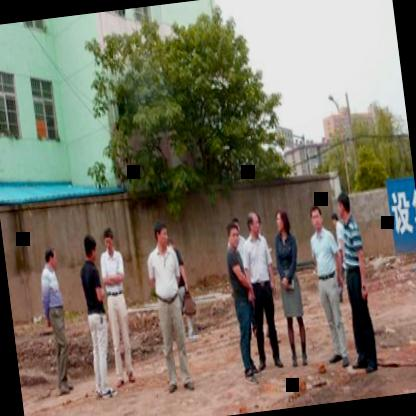head: (148, 216, 172, 250), (80, 230, 100, 265), (271, 204, 292, 237), (332, 188, 352, 221), (242, 208, 260, 240), (40, 245, 58, 274), (102, 226, 118, 258), (223, 219, 240, 249), (308, 202, 324, 232), (327, 208, 341, 235)
